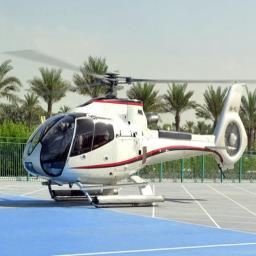helicopter: (17, 49, 248, 213)
